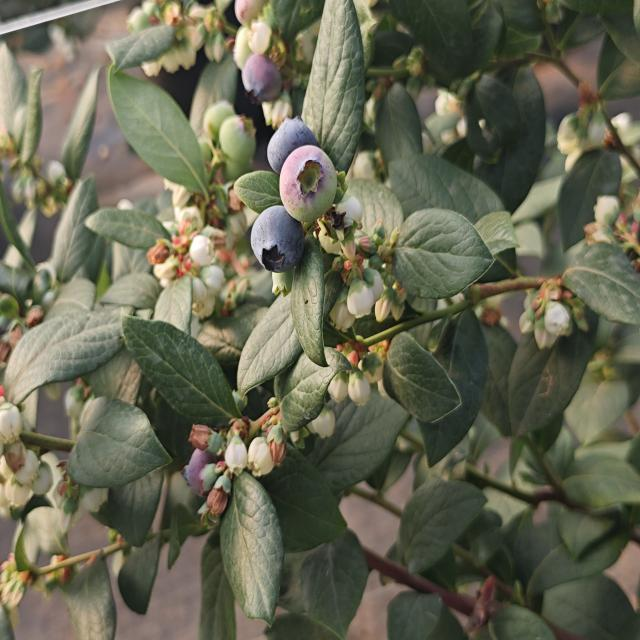ripe: (248, 203, 306, 277), (264, 114, 320, 176), (236, 54, 287, 99)
